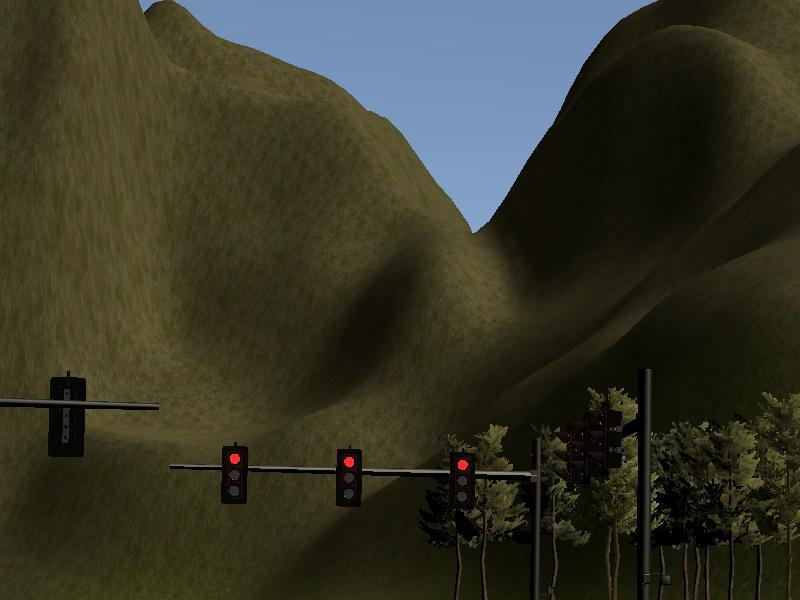Red: (222, 447, 248, 505), (339, 451, 364, 508), (453, 453, 476, 510)
